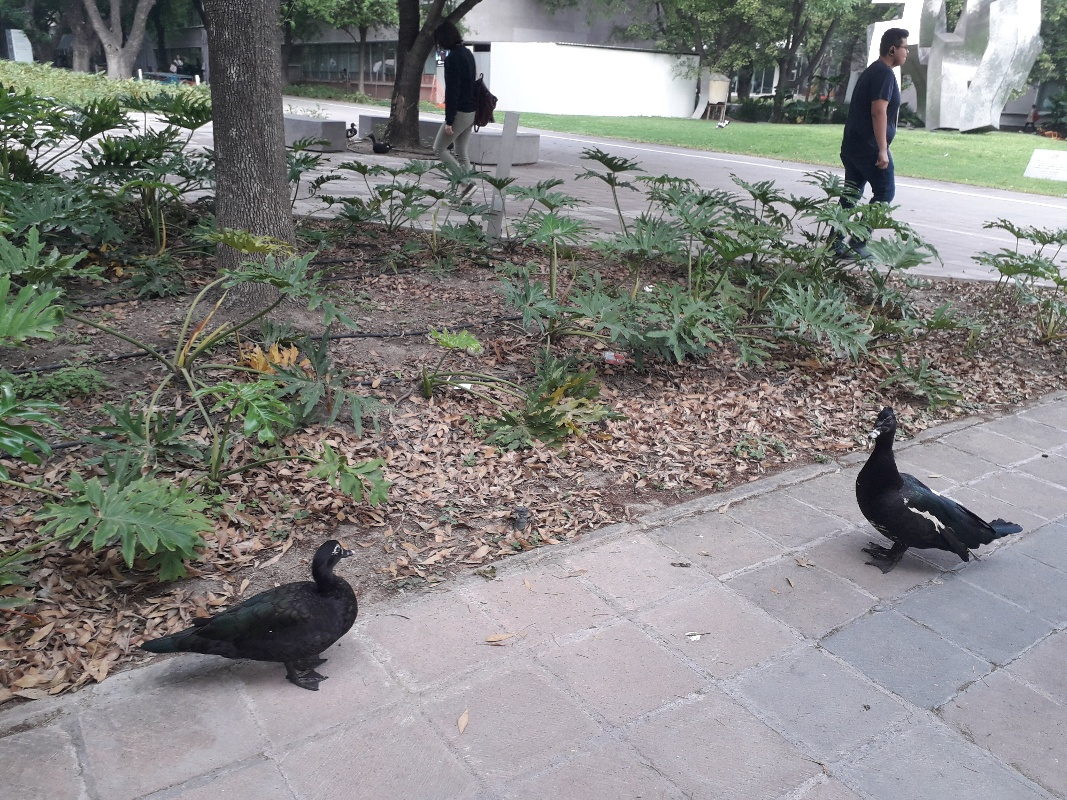pato: (151, 534, 357, 693), (855, 400, 982, 576)
